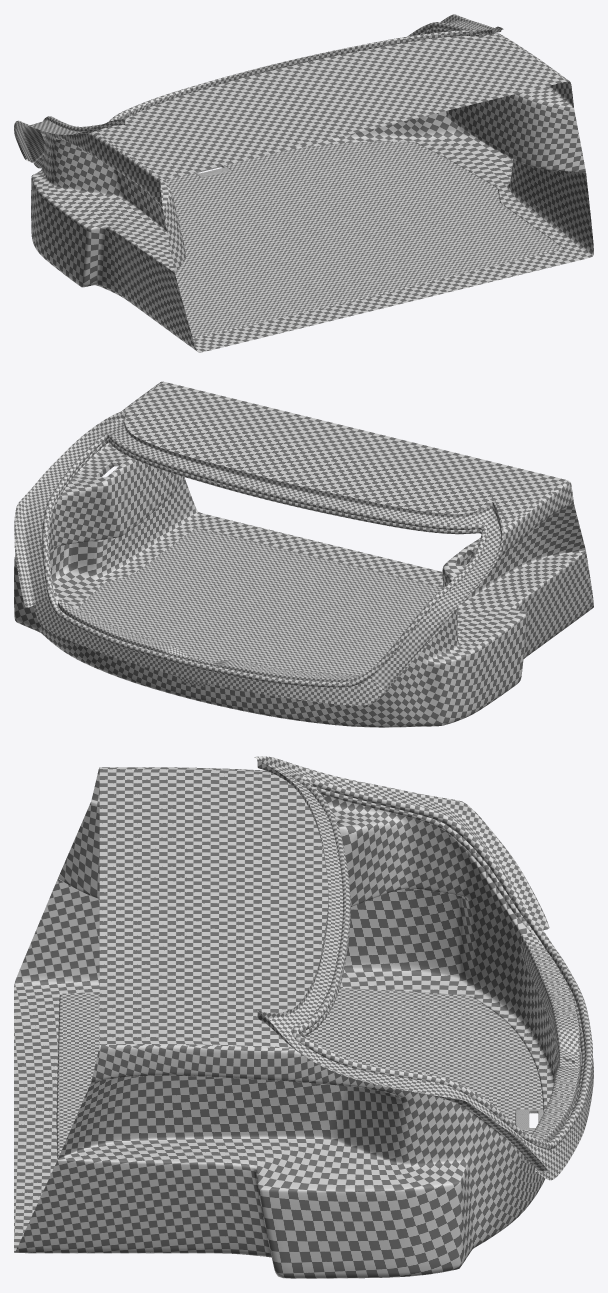
The model's file is Interior_03.FBX.
The picture shows the model from 3 angles, top to bottom: view 1: azimuth 30°, elevation 25°; view 2: azimuth 150°, elevation 25°; view 3: azimuth 270°, elevation 25°; orthographic projection. The views are drawn at different scales.
Visible parts, largest first — view 1: Interior_Trunk_02_M, Interior_Trunk_01_M, Interior_Trunk_03_M; view 2: Interior_Trunk_02_M, Interior_Trunk_01_M, Interior_Trunk_03_M; view 3: Interior_Trunk_02_M, Interior_Trunk_01_M, Interior_Trunk_03_M.
Boxes of the visible parts, x1,y1,x2,y2 form: Interior_Trunk_02_M: [14, 14, 593, 352]; Interior_Trunk_01_M: [165, 141, 562, 338]; Interior_Trunk_03_M: [43, 22, 486, 140]; Interior_Trunk_02_M: [14, 381, 593, 727]; Interior_Trunk_01_M: [77, 528, 442, 674]; Interior_Trunk_03_M: [42, 433, 487, 687]; Interior_Trunk_02_M: [14, 756, 593, 1278]; Interior_Trunk_01_M: [56, 988, 543, 1158]; Interior_Trunk_03_M: [291, 774, 592, 1149].
Bounding box in the file's own units: 13.69 × 4.87 × 10.72.
